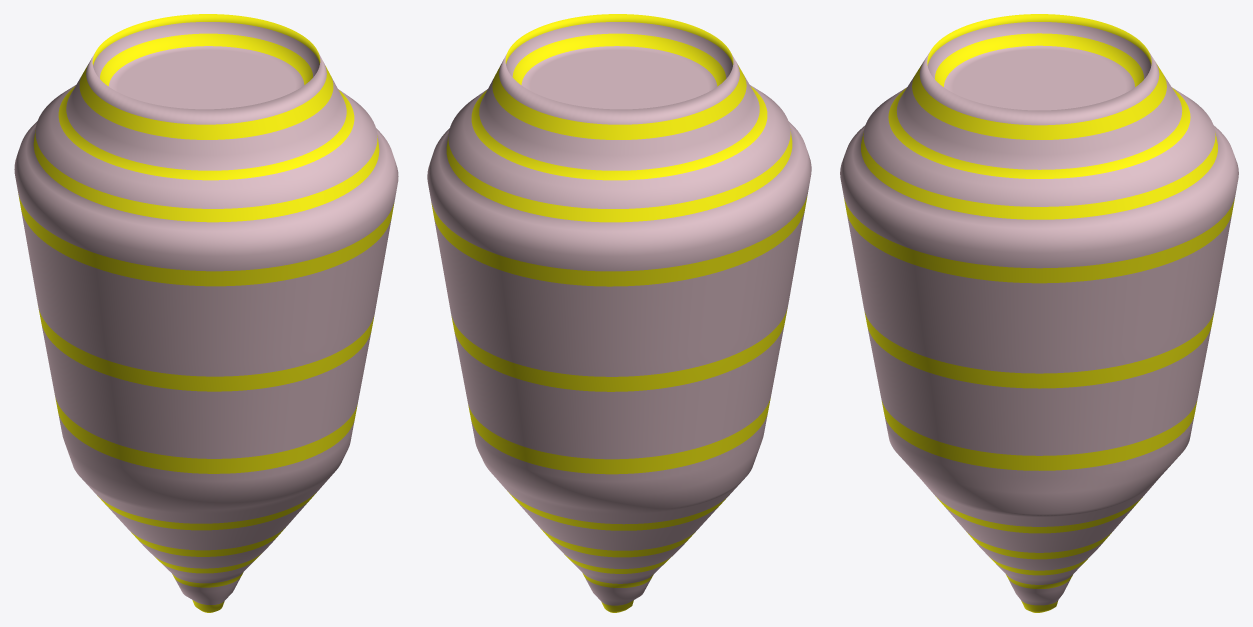
File: body-y.gltf
The picture shows the model from 3 angles, left to right: view 1: azimuth 30°, elevation 25°; view 2: azimuth 150°, elevation 25°; view 3: azimuth 270°, elevation 25°; orthographic projection.
Visible parts, largest first — view 1: Cylinder; view 2: Cylinder; view 3: Cylinder.
Part boxes in pixels (x1,y1,x2,y2): Cylinder: (14, 14, 398, 612); Cylinder: (427, 14, 811, 612); Cylinder: (840, 14, 1238, 612).
Size of the model in its own units: 1.27 by 2.03 by 1.34.
